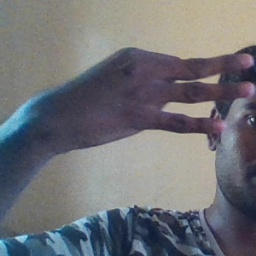K: (61, 45, 256, 153)
